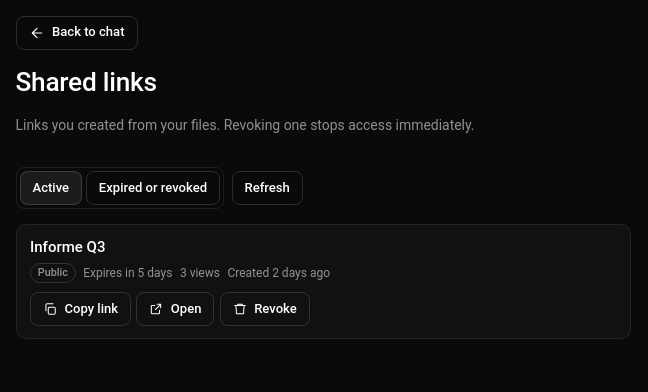
it: SharedLinksView › the filter shows expired and revoked links, without actions
Click the button "Expired or revoked".
click(153, 188)  # box [86, 171, 220, 205]
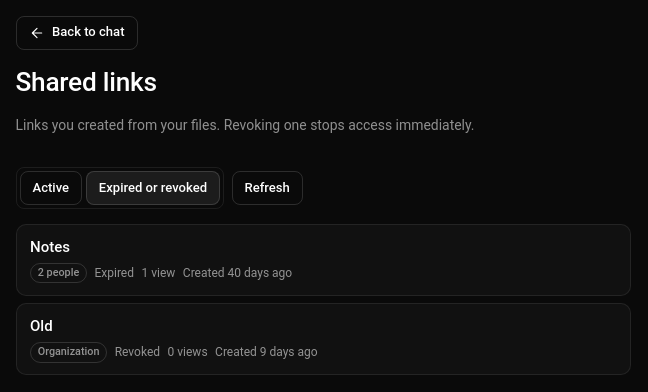
expect the list item with test id "link-row" shows "2 people": met, box [38, 266, 79, 279]
expect the list item with test id "link-row" shows "Expired": met, box [94, 266, 134, 280]
expect the list item with test id "link-row" shows "Revoked": met, box [115, 345, 160, 359]
